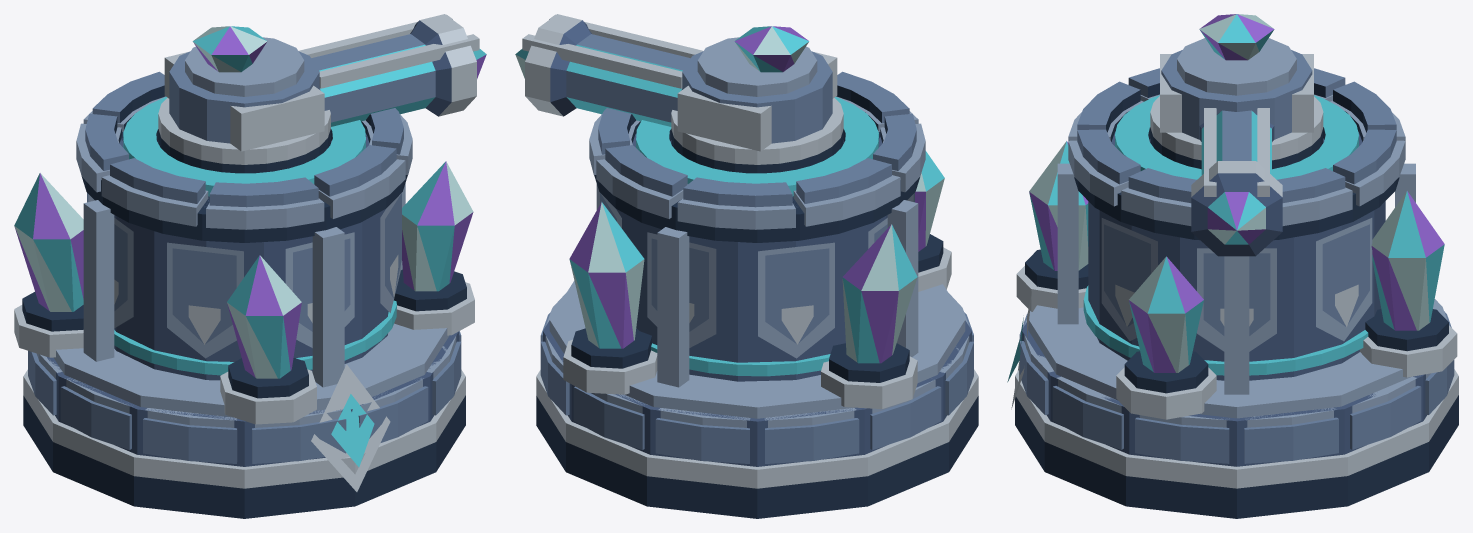
Rendered from crystal-tower-tier-2.glb.
3 renders of one model, left to right at view 1: azimuth 30°, elevation 25°; view 2: azimuth 150°, elevation 25°; view 3: azimuth 270°, elevation 25°, orthographic.
Visible parts, largest first — view 1: Armored base and crystal sockets, Turret, Barrel recoil joint; view 2: Armored base and crystal sockets, Turret, Barrel recoil joint; view 3: Armored base and crystal sockets, Turret, Barrel recoil joint.
Boxes of the visible parts, x1=… form: Armored base and crystal sockets: x1=14, y1=71, x2=474, y2=518; Turret: x1=158, y1=26, x2=330, y2=173; Barrel recoil joint: x1=299, y1=14, x2=486, y2=126; Armored base and crystal sockets: x1=536, y1=71, x2=978, y2=518; Turret: x1=671, y1=26, x2=843, y2=173; Barrel recoil joint: x1=515, y1=14, x2=703, y2=126; Armored base and crystal sockets: x1=1007, y1=68, x2=1458, y2=518; Turret: x1=1150, y1=14, x2=1323, y2=169; Barrel recoil joint: x1=1191, y1=108, x2=1282, y2=256.
Bounding box in the file's own units: 1.2 × 1.06 × 1.08.
